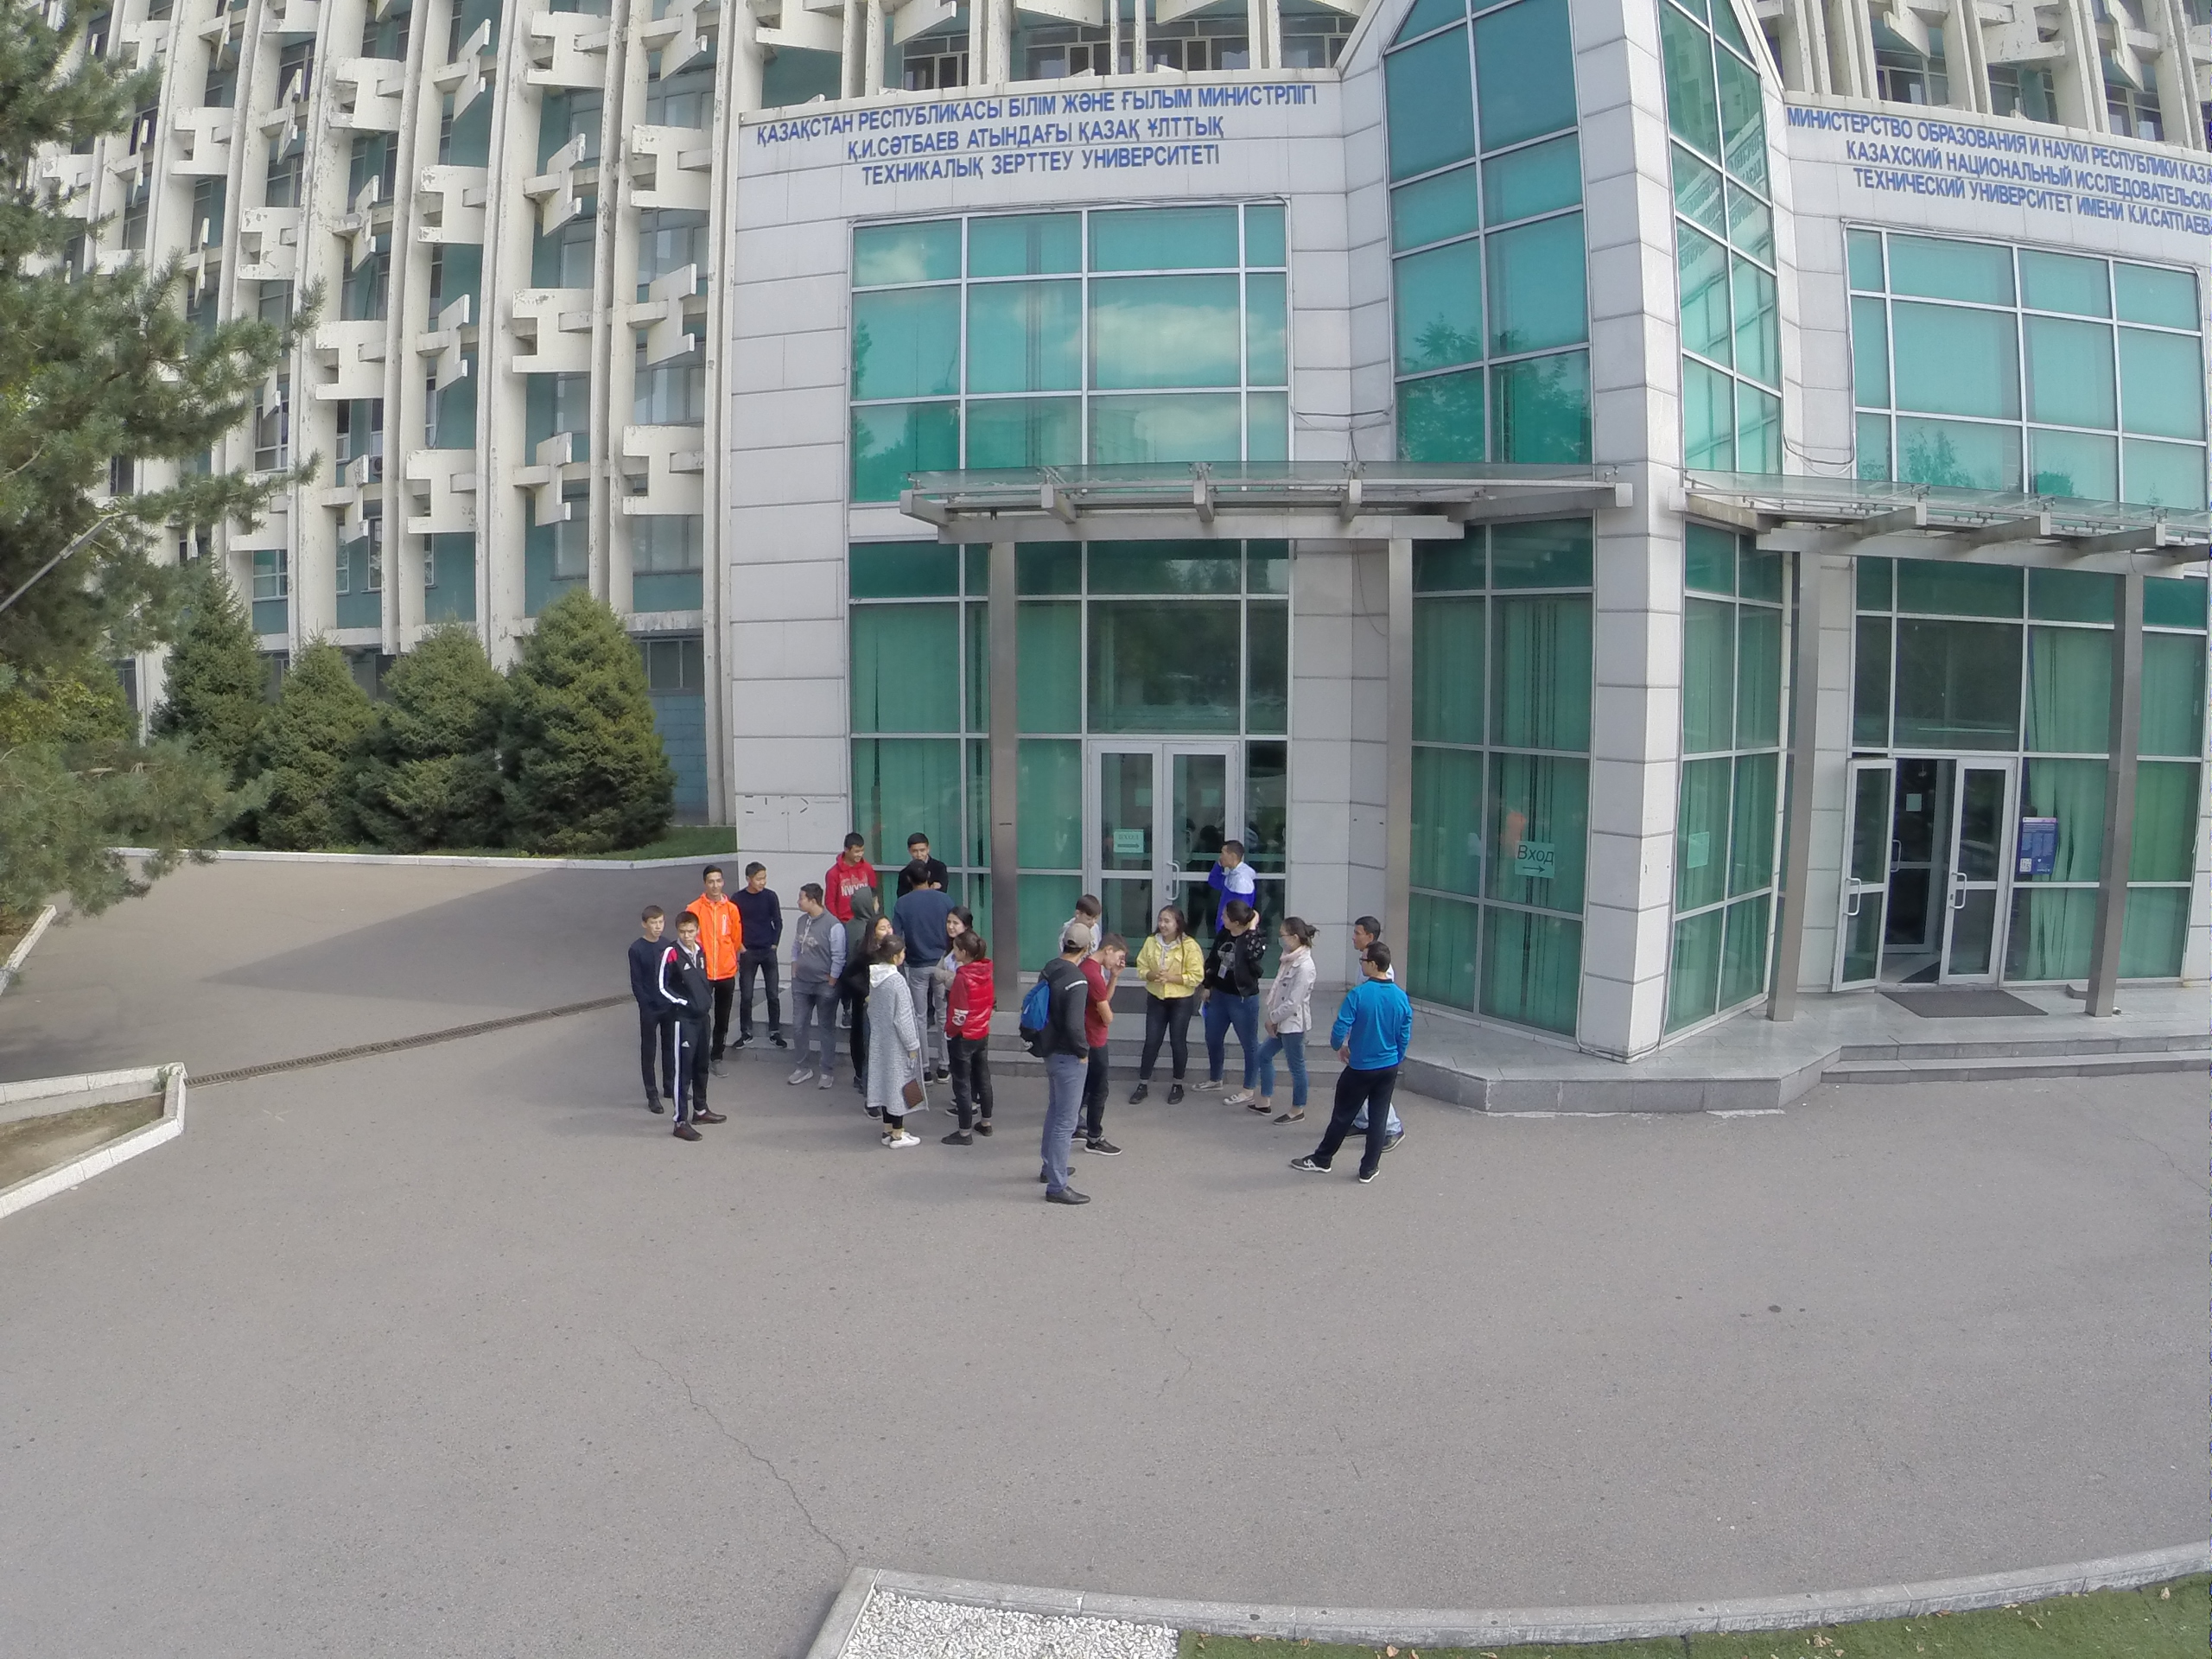person: (1317, 941, 1402, 1185), (1031, 926, 1090, 1205), (664, 921, 728, 1148), (1140, 906, 1211, 1101), (870, 948, 930, 1154), (1077, 930, 1129, 1156), (791, 880, 842, 1091), (947, 933, 998, 1151), (902, 868, 950, 1086), (1208, 906, 1260, 1110), (631, 911, 680, 1121), (1265, 918, 1313, 1122), (740, 863, 792, 1049), (695, 863, 739, 1075), (830, 829, 880, 893), (1210, 840, 1257, 900), (907, 830, 942, 865), (1351, 912, 1379, 944), (941, 912, 970, 943)
